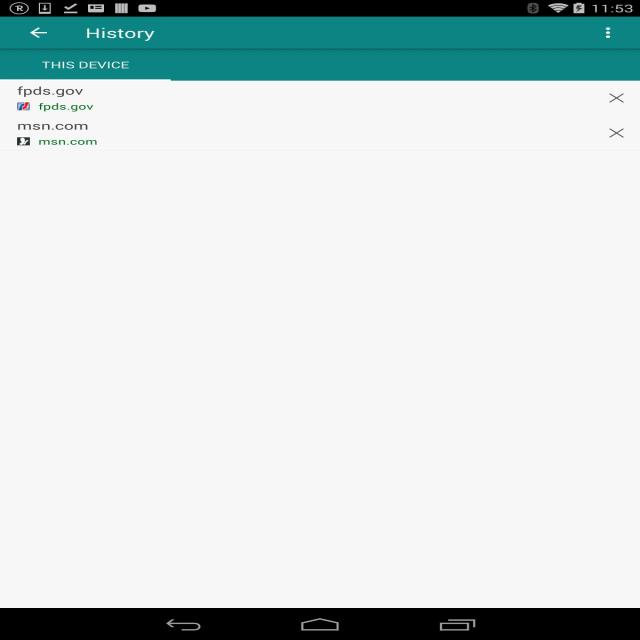button: (30, 52, 151, 78), (21, 25, 54, 44), (602, 89, 634, 107), (598, 25, 622, 44), (606, 125, 628, 142)
heading: (82, 25, 158, 44)
link: (31, 136, 105, 149), (32, 101, 96, 115)
text: (16, 84, 86, 101), (15, 120, 94, 132)
